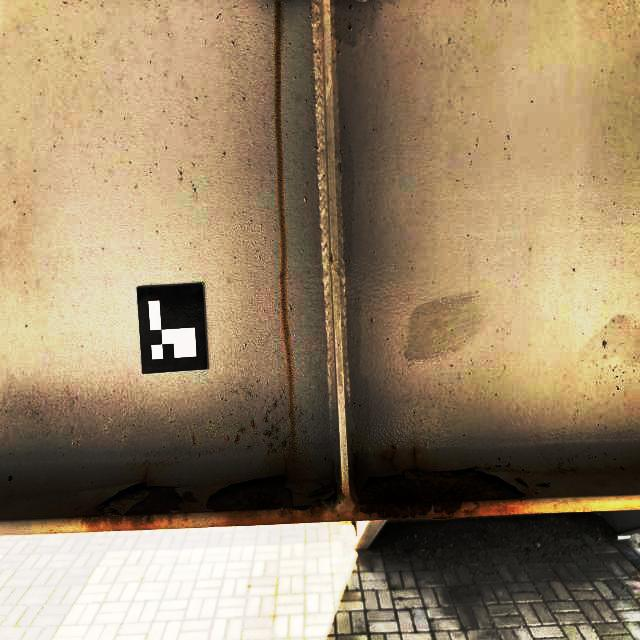Corrosion: (350, 441, 527, 520), (204, 460, 321, 522), (66, 467, 189, 525), (308, 466, 339, 508), (309, 498, 326, 510), (234, 425, 245, 443), (266, 442, 277, 455), (190, 432, 197, 446), (261, 430, 272, 438), (281, 439, 287, 448), (250, 420, 255, 430)
